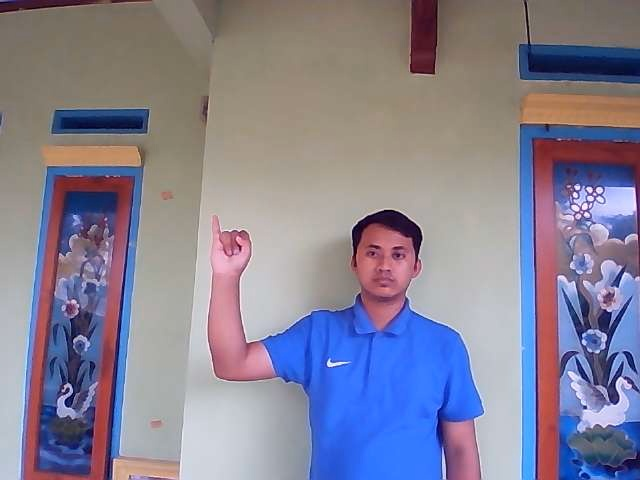I: (208, 214, 252, 279)
